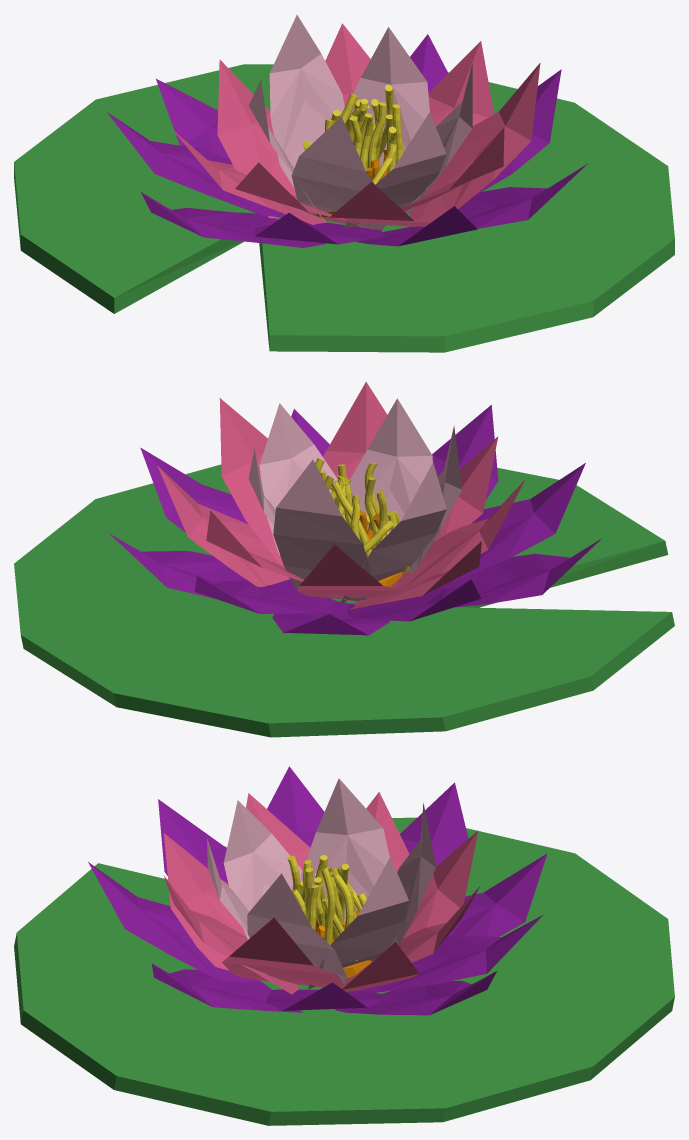
3 renders of one model, top to bottom at view 1: azimuth 30°, elevation 25°; view 2: azimuth 150°, elevation 25°; view 3: azimuth 270°, elevation 25°, orthographic.
Parts seen in each view (by area): view 1: node_MeshObject-1316812352-PolyPaper10, node_MeshObject-1748210944-PolyPaper12; view 2: node_MeshObject-1316812352-PolyPaper10, node_MeshObject-1748210944-PolyPaper12; view 3: node_MeshObject-1316812352-PolyPaper10, node_MeshObject-1748210944-PolyPaper12.
Boxes of the visible parts, box(x1,y1,x2,y2) form: node_MeshObject-1316812352-PolyPaper10: box(14, 15, 674, 352); node_MeshObject-1748210944-PolyPaper12: box(303, 93, 396, 214); node_MeshObject-1316812352-PolyPaper10: box(14, 381, 674, 737); node_MeshObject-1748210944-PolyPaper12: box(330, 475, 409, 573); node_MeshObject-1316812352-PolyPaper10: box(14, 766, 674, 1125); node_MeshObject-1748210944-PolyPaper12: box(292, 863, 366, 960).
Bounding box in the file's own units: 0.8308 × 0.2613 × 0.8324.
